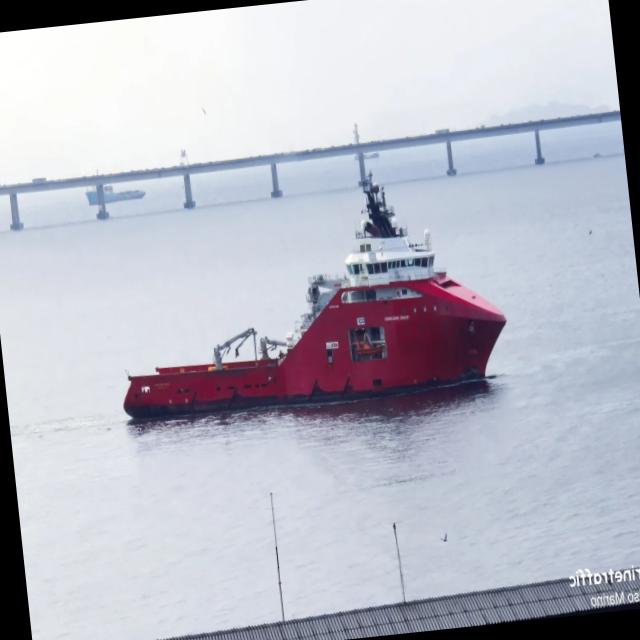Offshore: (123, 175, 505, 420)
